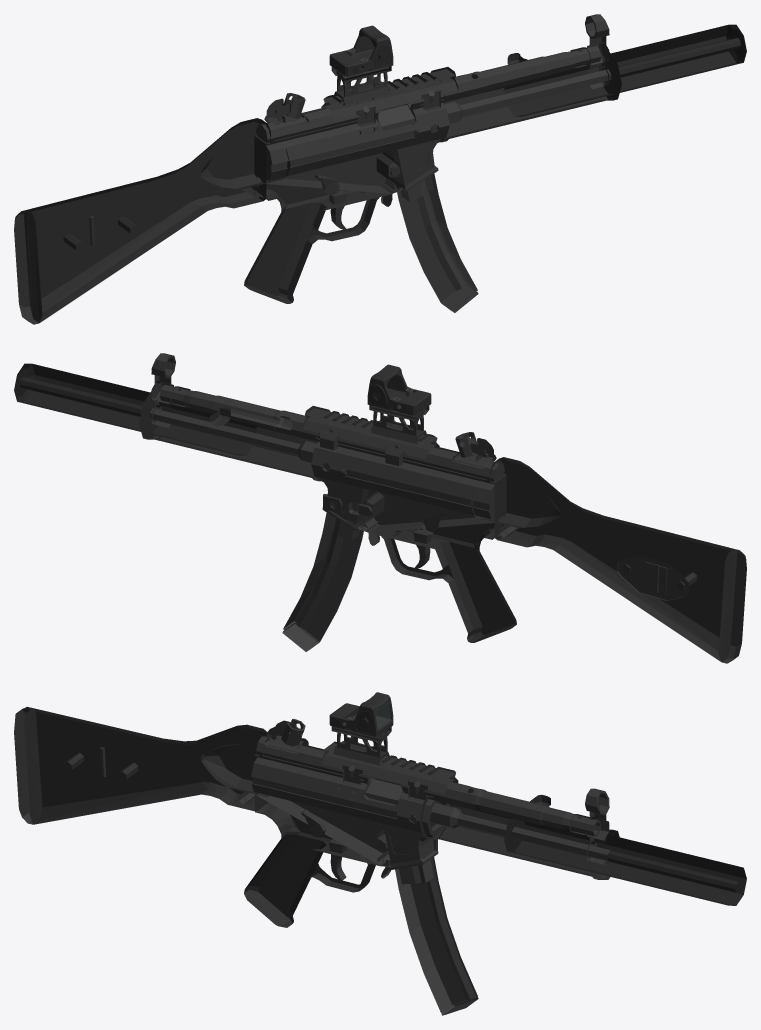
File: low-poly_hk_mp5sd-named-nodes.glb
3 views of the same model, one above another, from view 1: azimuth 30°, elevation 25°; view 2: azimuth 150°, elevation 25°; view 3: azimuth 330°, elevation 25° (orthographic).
Visible parts, largest first — view 1: Object_9, Object_11, Object_10, Object_4, Object_14, Object_15, Object_13, Object_5, Object_12, Object_16; view 2: Object_9, Object_11, Object_10, Object_4, Object_14, Object_13, Object_15, Object_5, Object_12, Object_16; view 3: Object_9, Object_11, Object_10, Object_14, Object_4, Object_15, Object_5, Object_13, Object_12, Object_16.
Boxes of the visible parts, box(x1,y1,x2,y2) form: Object_9: box(27, 52, 621, 322); Object_11: box(256, 46, 601, 193); Object_10: box(504, 24, 746, 116); Object_4: box(241, 67, 458, 230); Object_14: box(397, 174, 477, 311); Object_15: box(444, 14, 611, 123); Object_13: box(14, 210, 94, 324); Object_5: box(329, 25, 393, 105); Object_12: box(264, 80, 444, 140); Object_16: box(363, 76, 477, 130); Object_9: box(139, 391, 733, 661); Object_11: box(159, 385, 504, 532); Object_10: box(14, 363, 256, 455); Object_4: box(302, 406, 519, 569); Object_14: box(283, 502, 363, 650); Object_13: box(617, 549, 746, 663); Object_15: box(149, 353, 316, 462); Object_5: box(367, 364, 431, 444); Object_12: box(316, 419, 496, 479); Object_16: box(225, 408, 397, 449); Object_9: box(23, 708, 619, 927); Object_11: box(251, 720, 601, 869); Object_10: box(504, 818, 746, 905); Object_14: box(395, 857, 477, 1012); Object_4: box(238, 727, 458, 881); Object_15: box(429, 788, 611, 864); Object_5: box(329, 692, 393, 765); Object_13: box(14, 706, 106, 824); Object_12: box(262, 719, 433, 797); Object_16: box(348, 765, 473, 804).
Size of the model in its own units: 8.74 by 3.41 by 0.6379.
2 materials, 2 textured.
